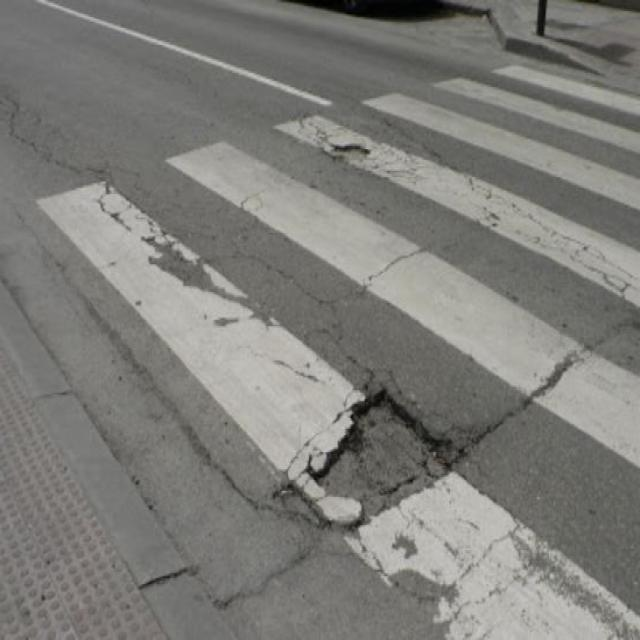pothole: (280, 385, 464, 522)
